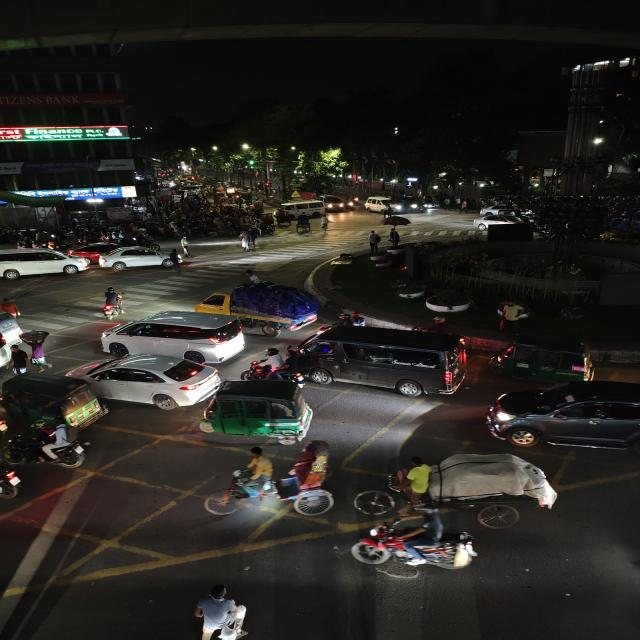car: (298, 325, 474, 401), (483, 382, 640, 458), (63, 351, 220, 413), (100, 311, 248, 361), (0, 244, 85, 283), (94, 242, 173, 274), (362, 196, 403, 215), (321, 193, 349, 213)
cng: (200, 378, 320, 443), (2, 374, 105, 429), (495, 337, 597, 381)
motorcycle: (324, 522, 496, 575), (18, 423, 94, 472), (240, 347, 290, 379), (0, 451, 26, 501), (97, 285, 130, 321), (160, 247, 187, 273)
pedestrian: (182, 580, 256, 640), (17, 328, 54, 370), (494, 300, 532, 334), (236, 225, 262, 252), (176, 233, 194, 257), (366, 230, 382, 255), (387, 225, 402, 247)
pickup_van: (193, 279, 323, 336)
rickshaw: (358, 448, 573, 521), (204, 439, 340, 523), (292, 210, 318, 238), (271, 207, 295, 230)
